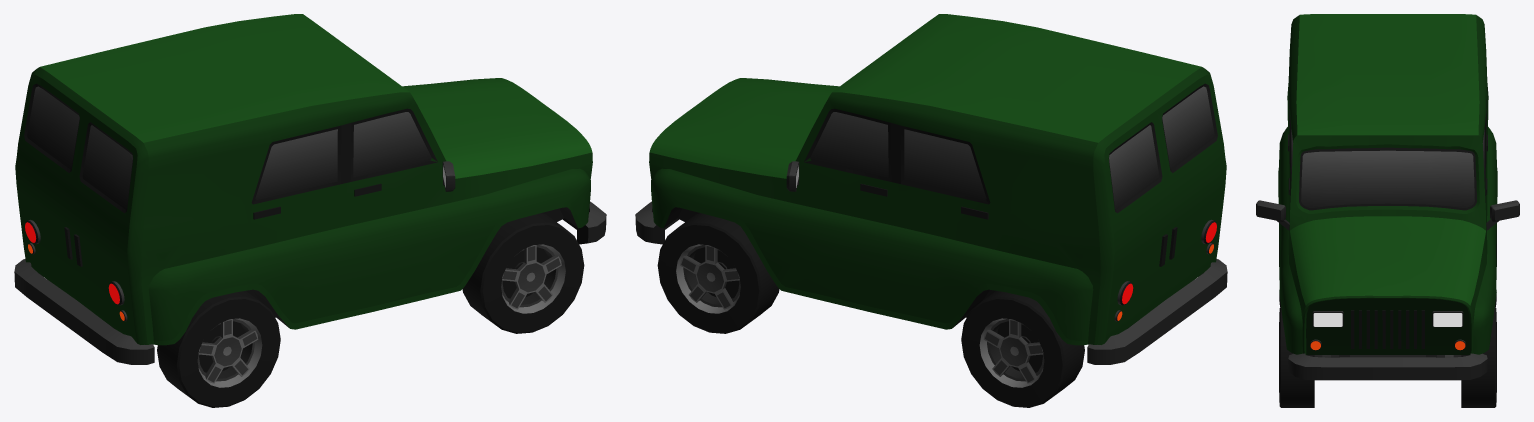
The model's file is Car_038.glb.
3 renders of one model, left to right at view 1: azimuth 30°, elevation 25°; view 2: azimuth 150°, elevation 25°; view 3: azimuth 270°, elevation 25°, orthographic. The views are drawn at different scales.
Visible parts, largest first — view 1: Car_038, wheel_1_Car_038_Wheel_1R, wheel_3_Car_038_Wheel_2R; view 2: Car_038, wheel_0_Car_038_Wheel_1L, wheel_2_Car_038_Wheel_2L; view 3: Car_038, wheel_0_Car_038_Wheel_1L, wheel_1_Car_038_Wheel_1R.
Part boxes in pixels (x1,y1,x2,y2): Car_038: (14,14,606,364); wheel_1_Car_038_Wheel_1R: (462,213,584,333); wheel_3_Car_038_Wheel_2R: (157,291,280,407); Car_038: (635,14,1227,364); wheel_0_Car_038_Wheel_1L: (657,213,779,333); wheel_2_Car_038_Wheel_2L: (961,291,1084,407); Car_038: (1256,14,1519,380); wheel_0_Car_038_Wheel_1L: (1461,307,1496,407); wheel_1_Car_038_Wheel_1R: (1279,307,1314,407).
Bounding box in the file's own units: 3.8 × 2.02 × 2.07.
Materials: 2 (2 with a texture image).
